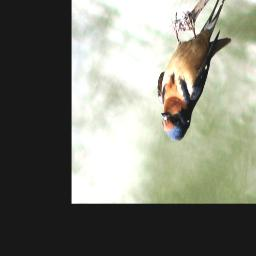Swallow: (155, 0, 229, 142)
